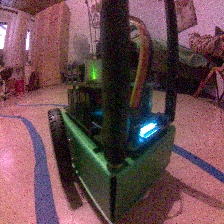rob: (47, 36, 176, 224)
